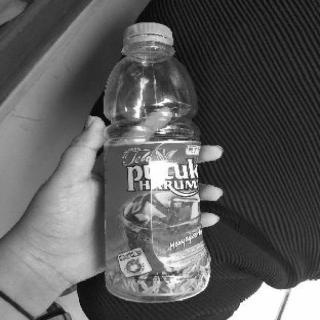plastic_bottles: (100, 20, 216, 306)
